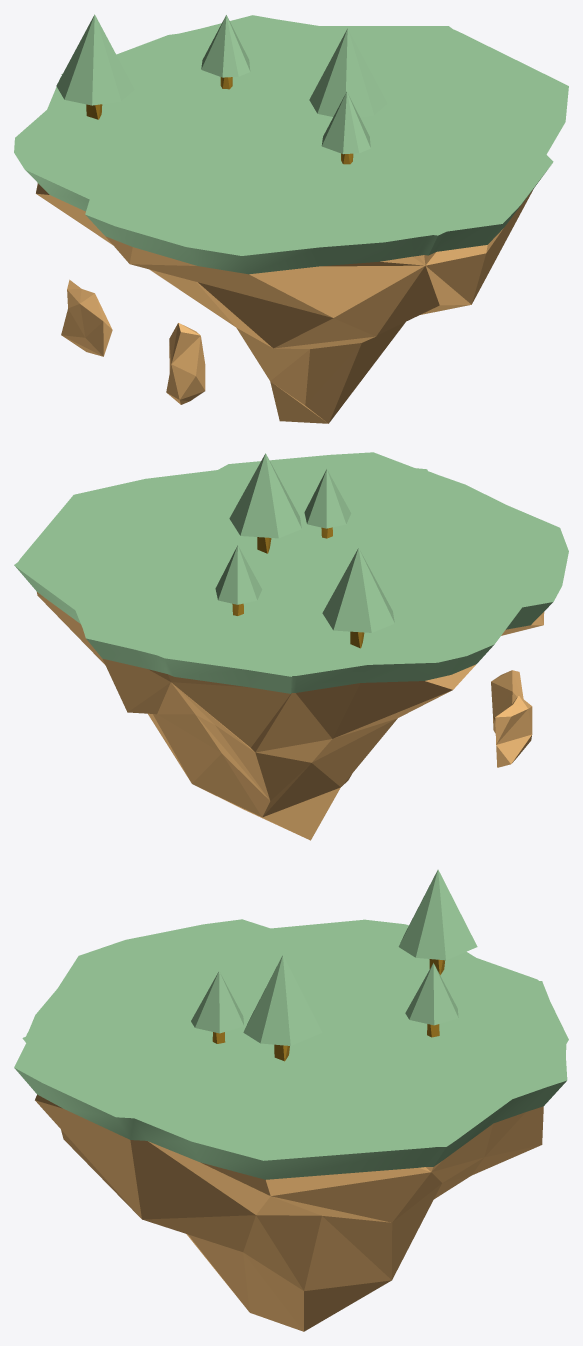
The model's file is land.gltf.
3 views of the same model, one above another, from view 1: azimuth 30°, elevation 25°; view 2: azimuth 150°, elevation 25°; view 3: azimuth 270°, elevation 25° (orthographic). The views are drawn at different scales.
Parts seen in each view (by area): view 1: 立方体, 球体, 圆锥 (×4), 胶囊 (×2); view 2: 立方体, 球体, 圆锥 (×4), 胶囊 (×2); view 3: 立方体, 球体, 圆锥 (×4).
Boxes of the visible parts, left/top/right/bottom form: 立方体: left=14, top=15, right=568, bottom=274; 球体: left=36, top=183, right=533, bottom=423; 圆锥 (×4): left=56, top=14, right=387, bottom=154; 胶囊 (×2): left=61, top=279, right=205, bottom=404; 立方体: left=14, top=452, right=568, bottom=693; 球体: left=37, top=592, right=544, bottom=840; 圆锥 (×4): left=215, top=453, right=394, bottom=632; 胶囊 (×2): left=491, top=670, right=532, bottom=767; 立方体: left=14, top=919, right=568, bottom=1179; 球体: left=35, top=1094, right=543, bottom=1331; 圆锥 (×4): left=191, top=869, right=477, bottom=1045.
Size of the model in its own units: 210 by 157 by 204.
